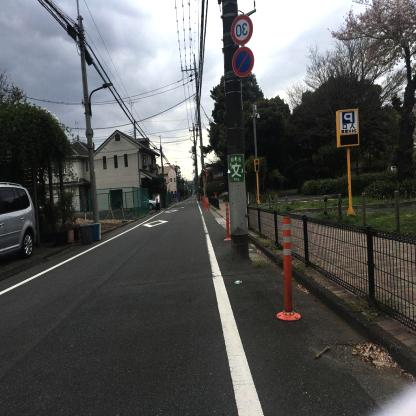Someiyoshino: (317, 1, 416, 85)
